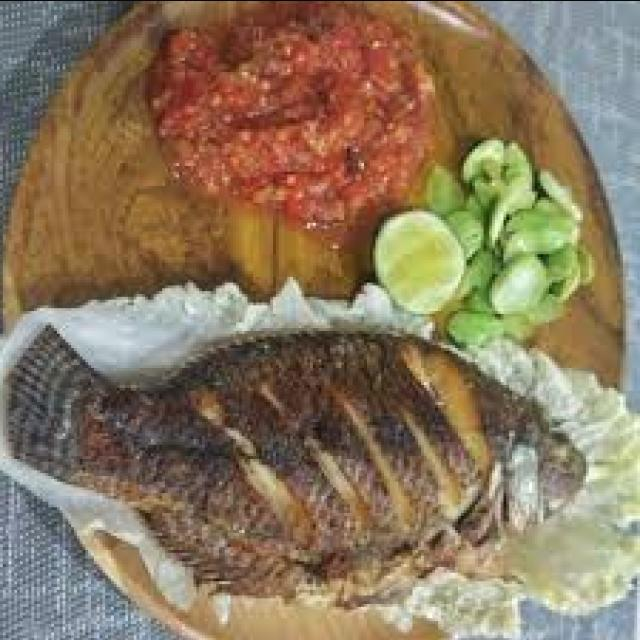ikan goreng: (3, 324, 586, 609)
